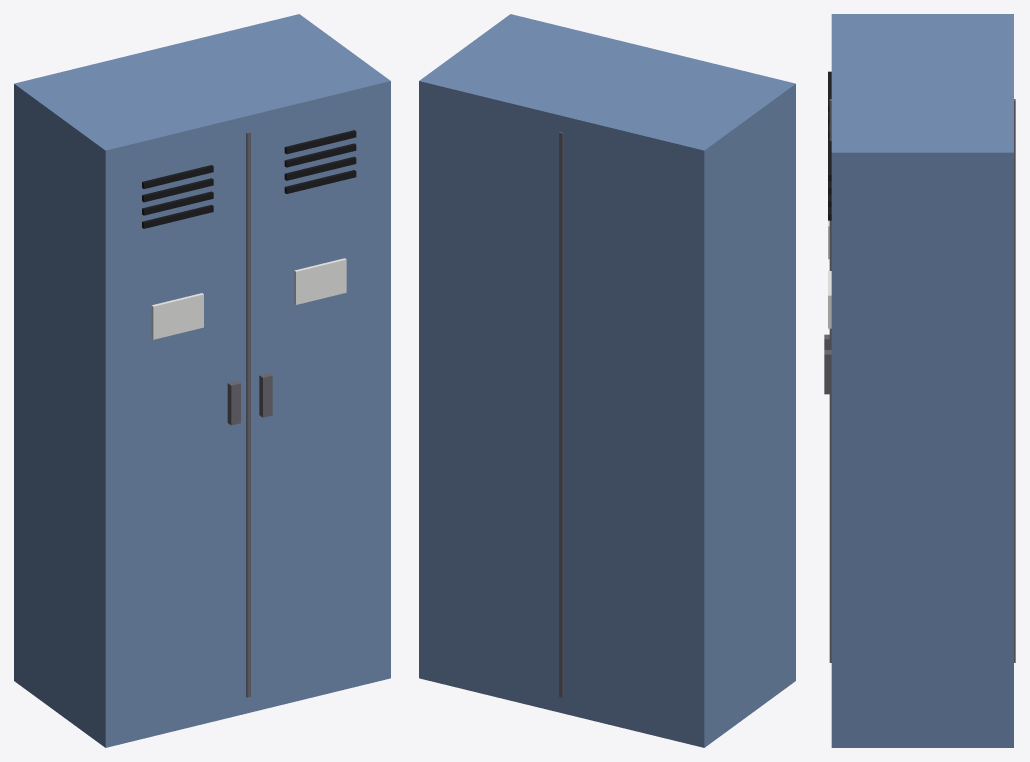
File: p_locker.glb
3 views of the same model, side by side, from view 1: azimuth 30°, elevation 25°; view 2: azimuth 150°, elevation 25°; view 3: azimuth 270°, elevation 25° (orthographic).
Parts seen in each view (by area): view 1: locker; view 2: locker; view 3: locker.
Part boxes in pixels (x1,y1,x2,y2): locker: (14, 14, 390, 747); locker: (419, 14, 795, 747); locker: (824, 14, 1015, 747).
Size of the model in its own units: 0.9 by 1.8 by 0.525.
